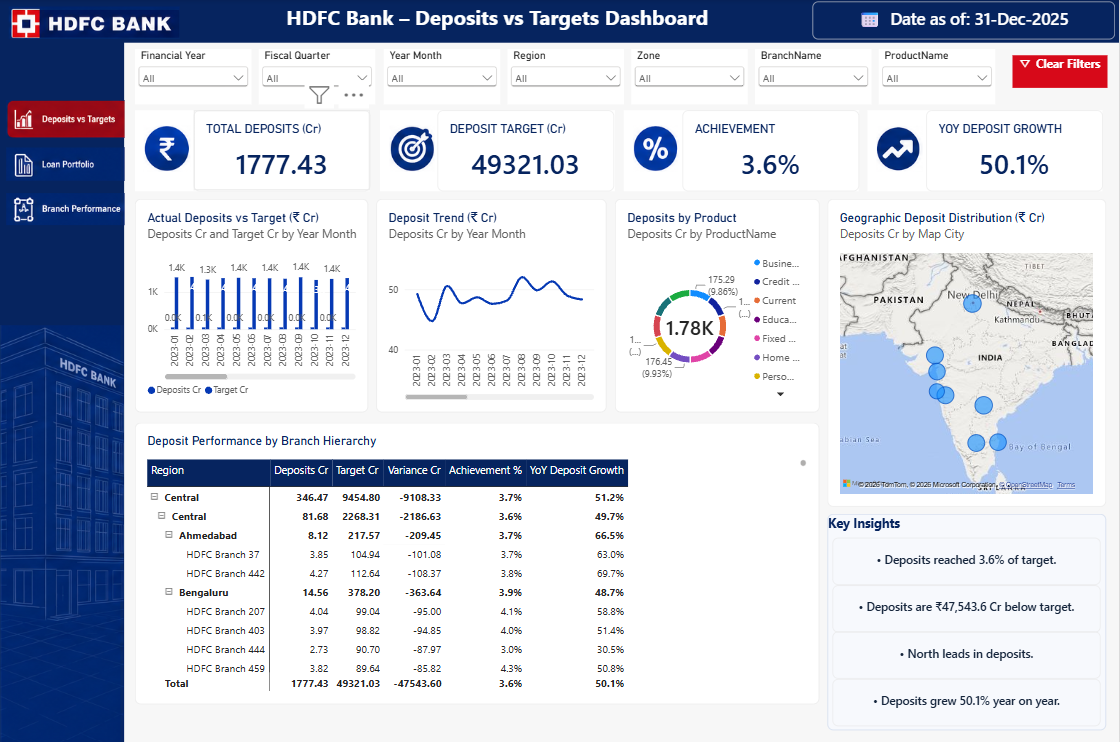

Layout of this report page (visuals, bound fields, positions):
{"tool":"powerbi","page":{"name":"Deposits vs Targets","canvas":[1536,1024],"ordinal":0},"visuals":[{"type":"textbox","box":[0,0,170,1024],"z":1},{"type":"textbox","box":[170,0,1366,60],"z":2},{"type":"image","box":[12,10,234,44],"z":3},{"type":"image","box":[0,448,170,576],"z":4},{"type":"textbox","box":[255,5,854,50],"z":5},{"type":"card","fields":{"Values":["FactTransactions.Reporting Date"]},"box":[1115,4,415,52],"z":6},{"type":"image","box":[8,138,162,55],"z":7},{"type":"image","box":[8,199,162,55],"z":9},{"type":"image","box":[8,260,162,55],"z":11},{"type":"slicer","title":"Financial Year","fields":{"Values":["DimDate.Financial Year"]},"box":[186,68,160,76],"z":13},{"type":"slicer","title":"Fiscal Quarter","fields":{"Values":["DimDate.Fiscal Quarter"]},"box":[356,68,160,76],"z":14},{"type":"slicer","title":"Year Month","fields":{"Values":["DimDate.Year Month"]},"box":[526,68,160,76],"z":15},{"type":"slicer","title":"Region","fields":{"Values":["DimBranch.Region"]},"box":[696,68,160,76],"z":16},{"type":"slicer","title":"Zone","fields":{"Values":["DimBranch.Zone"]},"box":[866,68,160,76],"z":17},{"type":"slicer","title":"BranchName","fields":{"Values":["DimBranch.BranchName"]},"box":[1036,68,160,76],"z":18},{"type":"slicer","title":"ProductName","fields":{"Values":["DimProduct.ProductName"]},"box":[1206,68,160,76],"z":19},{"type":"textbox","box":[1390,78,130,45],"z":20},{"type":"textbox","box":[186,152,322,111],"z":21},{"type":"card","title":"TOTAL DEPOSITS (Cr)","fields":{"Values":["FactTransactions.Deposits Cr"]},"box":[266,152,242,111],"z":22},{"type":"textbox","box":[521,152,322,111],"z":22},{"type":"card","title":"DEPOSIT TARGET (Cr)","fields":{"Values":["BranchDepositTargets.Target Cr"]},"box":[601,152,242,111],"z":23},{"type":"textbox","box":[856,152,322,111],"z":23},{"type":"card","title":"ACHIEVEMENT","fields":{"Values":["FactTransactions.Achievement %"]},"box":[936,152,242,111],"z":24},{"type":"textbox","box":[1191,152,322,111],"z":24},{"type":"card","title":"YOY DEPOSIT GROWTH","fields":{"Values":["FactTransactions.YoY Deposit Growth"]},"box":[1271,152,242,111],"z":25},{"type":"clusteredColumnChart","title":"Actual Deposits vs Target (₹ Cr)","fields":{"Category":["DimDate.Year Month"],"Y":["FactTransactions.Deposits Cr","BranchDepositTargets.Target Cr"]},"box":[186,274,320,293],"z":26},{"type":"lineChart","title":"Deposit Trend (₹ Cr)","fields":{"Category":["DimDate.Year Month"],"Y":["FactTransactions.Deposits Cr"]},"box":[517,274,316,293],"z":27},{"type":"donutChart","title":"Deposits by Product","fields":{"Category":["DimProduct.ProductName"],"Y":["FactTransactions.Deposits Cr"]},"box":[844,274,281,293],"z":28},{"type":"map","title":"Geographic Deposit Distribution (₹ Cr)","fields":{"Category":["DimBranch.Map City"],"Size":["FactTransactions.Deposits Cr"]},"box":[1136,274,382,422],"z":29},{"type":"pivotTable","title":"Deposit Performance by Branch Hierarchy","fields":{"Rows":["DimBranch.Region","DimBranch.Zone","DimBranch.City","DimBranch.BranchName"],"Values":["FactTransactions.Deposits Cr","BranchDepositTargets.Target Cr","FactTransactions.Variance Cr","FactTransactions.Achievement %","FactTransactions.YoY Deposit Growth"]},"box":[186,582,939,386],"z":30},{"type":"image","box":[198,174,64,64],"z":122},{"type":"image","box":[533,174,64,64],"z":123},{"type":"image","box":[868,174,64,64],"z":124},{"type":"image","box":[1203,174,64,64],"z":125},{"type":"textbox","box":[1136,707,382,297],"z":130},{"type":"card","fields":{"Values":["FactTransactions.Deposit Insights 1"]},"box":[1143,739,368,65],"z":132},{"type":"card","fields":{"Values":["FactTransactions.Deposit Insights 2"]},"box":[1143,804,368,65],"z":133},{"type":"card","fields":{"Values":["FactTransactions.Deposit Insights 3"]},"box":[1143,869,368,65],"z":134},{"type":"card","fields":{"Values":["FactTransactions.Deposit Insights 4"]},"box":[1143,934,368,65],"z":135},{"type":"actionButton","box":[8,138,162,55],"z":507},{"type":"actionButton","box":[8,199,162,55],"z":509},{"type":"actionButton","box":[8,260,162,55],"z":511},{"type":"actionButton","box":[1390,78,130,45],"z":520}]}

Visuals, with their boxes in screenshot pixels (x1, y1, x2, y2), scaled from the page's 1536x1024 canvas onto the 1120x742 screenshot:
textbox: bbox=[0, 0, 124, 741]
textbox: bbox=[124, 0, 1119, 43]
image: bbox=[9, 7, 179, 39]
image: bbox=[0, 325, 124, 741]
textbox: bbox=[186, 4, 809, 40]
card - FactTransactions.Reporting Date: bbox=[813, 3, 1116, 41]
image: bbox=[6, 100, 124, 140]
image: bbox=[6, 144, 124, 184]
image: bbox=[6, 188, 124, 228]
"Financial Year" slicer: bbox=[136, 49, 252, 104]
"Fiscal Quarter" slicer: bbox=[260, 49, 376, 104]
"Year Month" slicer: bbox=[384, 49, 500, 104]
"Region" slicer: bbox=[508, 49, 624, 104]
"Zone" slicer: bbox=[631, 49, 748, 104]
"BranchName" slicer: bbox=[755, 49, 872, 104]
"ProductName" slicer: bbox=[879, 49, 996, 104]
textbox: bbox=[1014, 57, 1108, 89]
textbox: bbox=[136, 110, 370, 191]
"TOTAL DEPOSITS (Cr)" card: bbox=[194, 110, 370, 191]
textbox: bbox=[380, 110, 615, 191]
"DEPOSIT TARGET (Cr)" card: bbox=[438, 110, 615, 191]
textbox: bbox=[624, 110, 859, 191]
"ACHIEVEMENT" card: bbox=[682, 110, 859, 191]
textbox: bbox=[868, 110, 1103, 191]
"YOY DEPOSIT GROWTH" card: bbox=[927, 110, 1103, 191]
"Actual Deposits vs Target (₹ Cr)" clusteredColumnChart: bbox=[136, 199, 369, 411]
"Deposit Trend (₹ Cr)" lineChart: bbox=[377, 199, 607, 411]
"Deposits by Product" donutChart: bbox=[615, 199, 820, 411]
"Geographic Deposit Distribution (₹ Cr)" map: bbox=[828, 199, 1107, 504]
"Deposit Performance by Branch Hierarchy" pivotTable: bbox=[136, 422, 820, 701]
image: bbox=[144, 126, 191, 172]
image: bbox=[389, 126, 435, 172]
image: bbox=[633, 126, 680, 172]
image: bbox=[877, 126, 924, 172]
textbox: bbox=[828, 512, 1107, 728]
card - FactTransactions.Deposit Insights 1: bbox=[833, 535, 1102, 583]
card - FactTransactions.Deposit Insights 2: bbox=[833, 583, 1102, 630]
card - FactTransactions.Deposit Insights 3: bbox=[833, 630, 1102, 677]
card - FactTransactions.Deposit Insights 4: bbox=[833, 677, 1102, 724]
actionButton: bbox=[6, 100, 124, 140]
actionButton: bbox=[6, 144, 124, 184]
actionButton: bbox=[6, 188, 124, 228]
actionButton: bbox=[1014, 57, 1108, 89]
